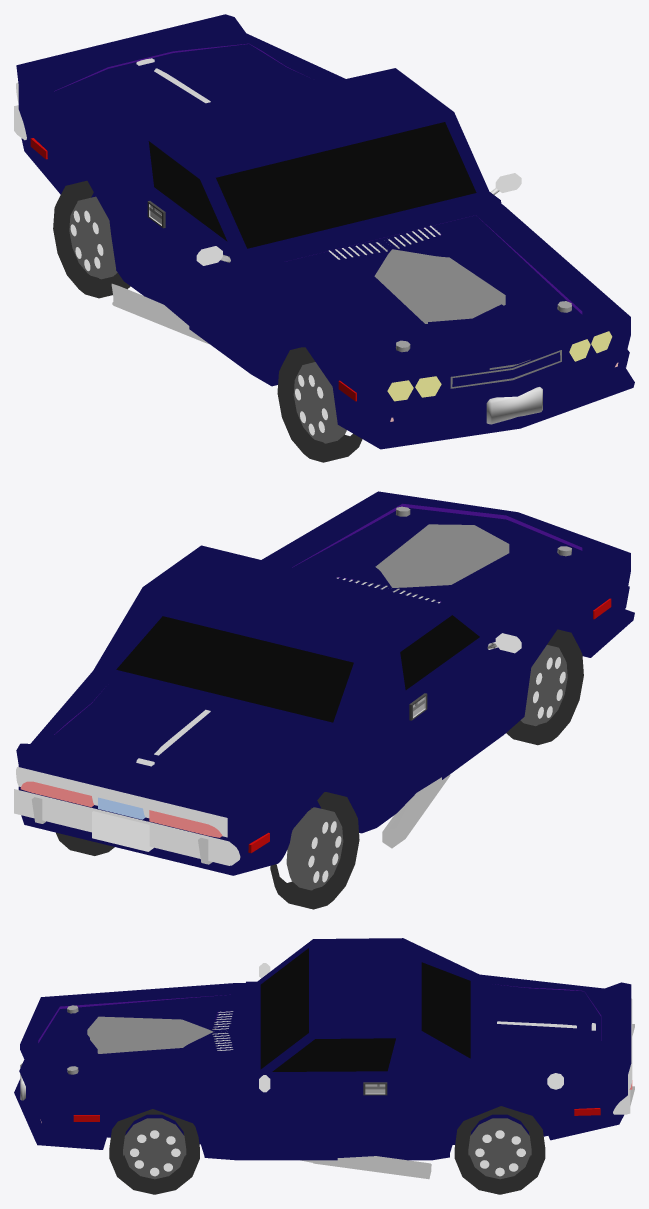
The model's file is mobbil.fbx.
The picture shows the model from 3 angles, top to bottom: view 1: azimuth 30°, elevation 25°; view 2: azimuth 150°, elevation 25°; view 3: azimuth 270°, elevation 25°; orthographic projection. The views are drawn at different scales.
Parts seen in each view (by area): view 1: Cube.1_2, Cube.2_2, Cylinder, Cylinder_3, Cylinder_4, Cylinder_1, Cylinder.2_2, plate, Cylinder_5, Cylinder_2, Cube.3_3, Cylinder.1_3 (+2 smaller); view 2: Cube.1_2, Cube.2_2, Cube.3_2, Cylinder, Cylinder_1, Cube.5_2, Cylinder_3, Cylinder_4, Cube.5_3, Cube.6_2, Cylinder.2_2, Cube.1 (+2 smaller); view 3: Cube.1_2, Cube.2_2, Cylinder_1, Cylinder_4, Cylinder, Cylinder_3, Cylinder.2_2, Cube.1.
Boxes of the visible parts, bbox=[...] form: Cube.1_2: bbox=[16, 14, 634, 449]; Cube.2_2: bbox=[353, 240, 505, 323]; Cylinder: bbox=[69, 196, 117, 279]; Cylinder_3: bbox=[293, 362, 346, 443]; Cylinder_4: bbox=[277, 347, 362, 462]; Cylinder_1: bbox=[53, 180, 130, 298]; Cylinder.2_2: bbox=[111, 283, 209, 344]; plate: bbox=[486, 387, 542, 424]; Cylinder_5: bbox=[283, 367, 349, 445]; Cylinder_2: bbox=[59, 202, 118, 280]; Cube.3_3: bbox=[196, 173, 521, 265]; Cylinder.1_3: bbox=[415, 339, 590, 397]; Cube.1_2: bbox=[16, 491, 634, 875]; Cube.2_2: bbox=[357, 524, 509, 600]; Cube.3_2: bbox=[14, 789, 240, 865]; Cylinder: bbox=[286, 807, 343, 890]; Cylinder_1: bbox=[56, 792, 359, 909]; Cube.5_2: bbox=[16, 767, 227, 837]; Cylinder_3: bbox=[520, 645, 567, 726]; Cylinder_4: bbox=[506, 629, 583, 745]; Cube.5_3: bbox=[20, 781, 222, 837]; Cube.6_2: bbox=[92, 811, 153, 851]; Cylinder.2_2: bbox=[382, 774, 450, 848]; Cube.1: bbox=[292, 503, 582, 602]; Cube.1_2: bbox=[14, 938, 631, 1160]; Cube.2_2: bbox=[87, 1016, 226, 1053]; Cylinder_1: bbox=[454, 1106, 545, 1194]; Cylinder_4: bbox=[109, 1109, 199, 1194]; Cylinder: bbox=[468, 1118, 531, 1179]; Cylinder_3: bbox=[123, 1118, 186, 1179]; Cylinder.2_2: bbox=[300, 1156, 431, 1179]; Cube.1: bbox=[38, 994, 230, 1042].
Size of the model in its own units: 256 by 160 by 553.
